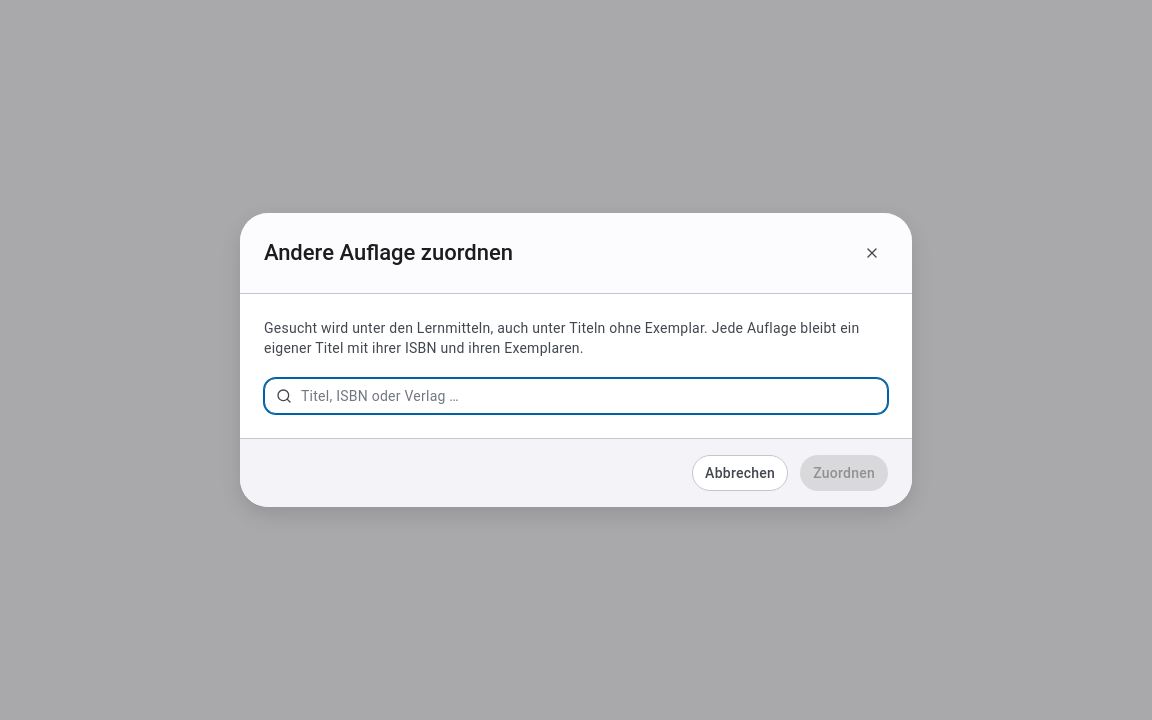
it: AuflageZuordnenDialog › meldet eine Abweisung des Servers im Dialog und reicht nichts weiter
Type "Mathe" into the search field named "Andere Auflage suchen" at coordinates (576, 396), box [264, 378, 888, 414]
Wait 250 ms
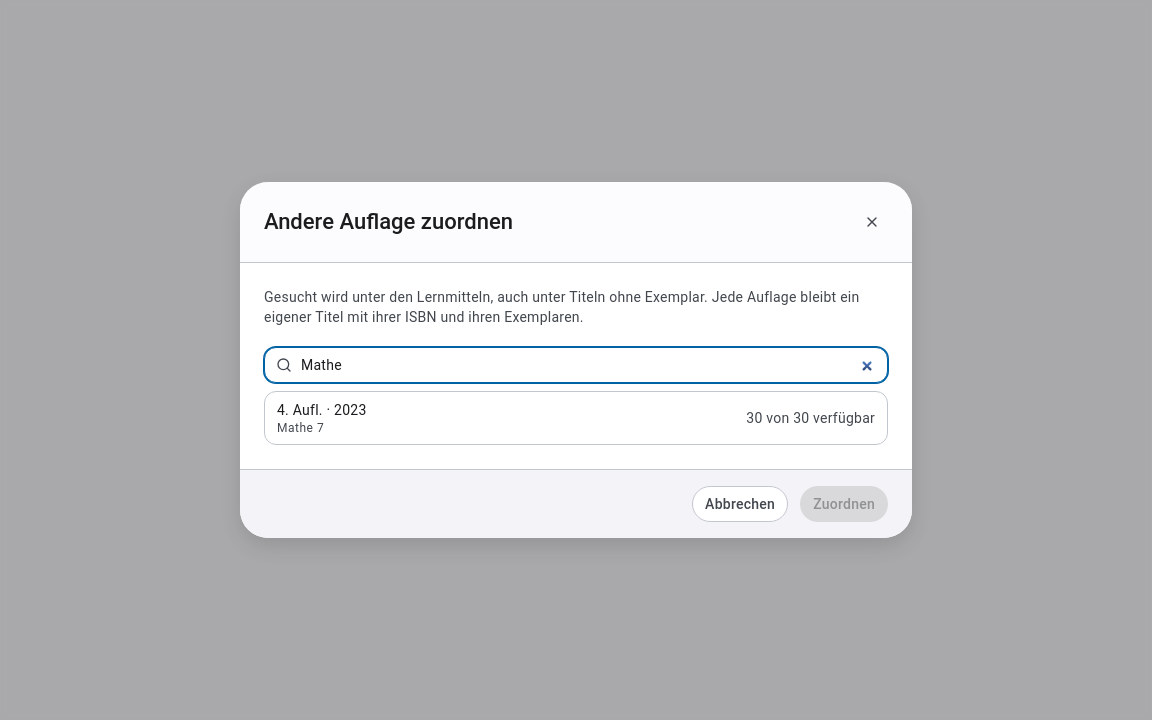
Click the button "4. Aufl. · 2023 Mathe 7 30 von 30 verfügbar" at coordinates (322, 410), box [265, 392, 887, 444]
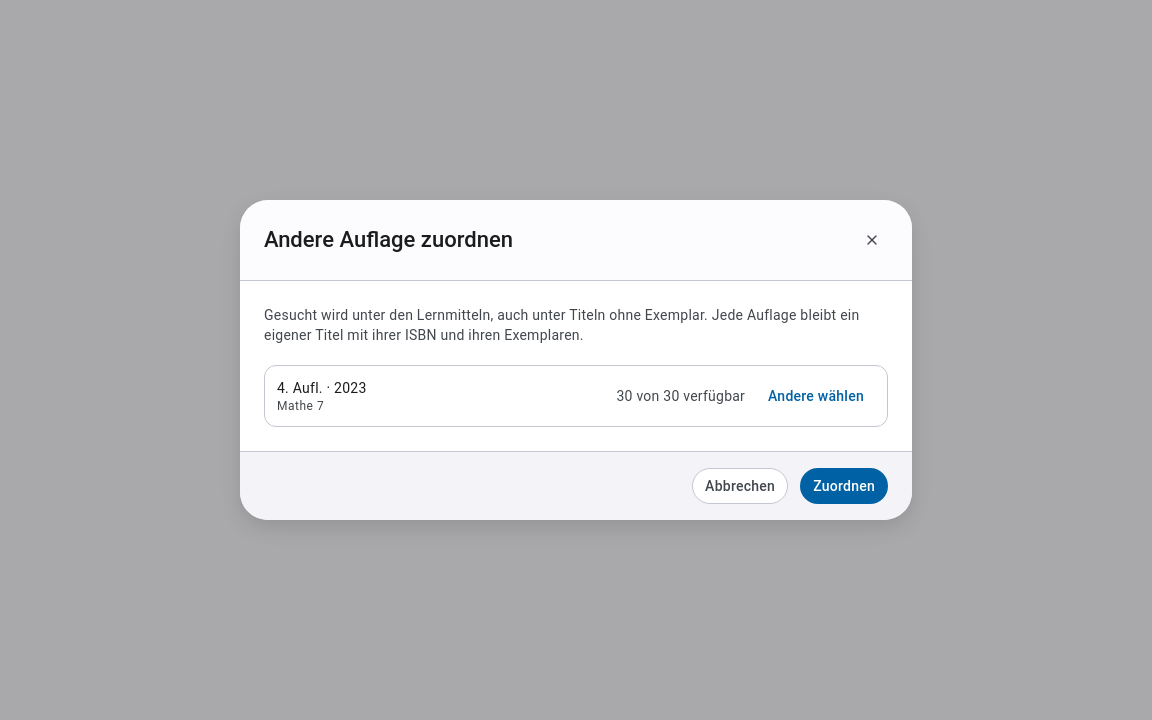
Click the button "Zuordnen" at coordinates (844, 486), box [800, 468, 888, 504]
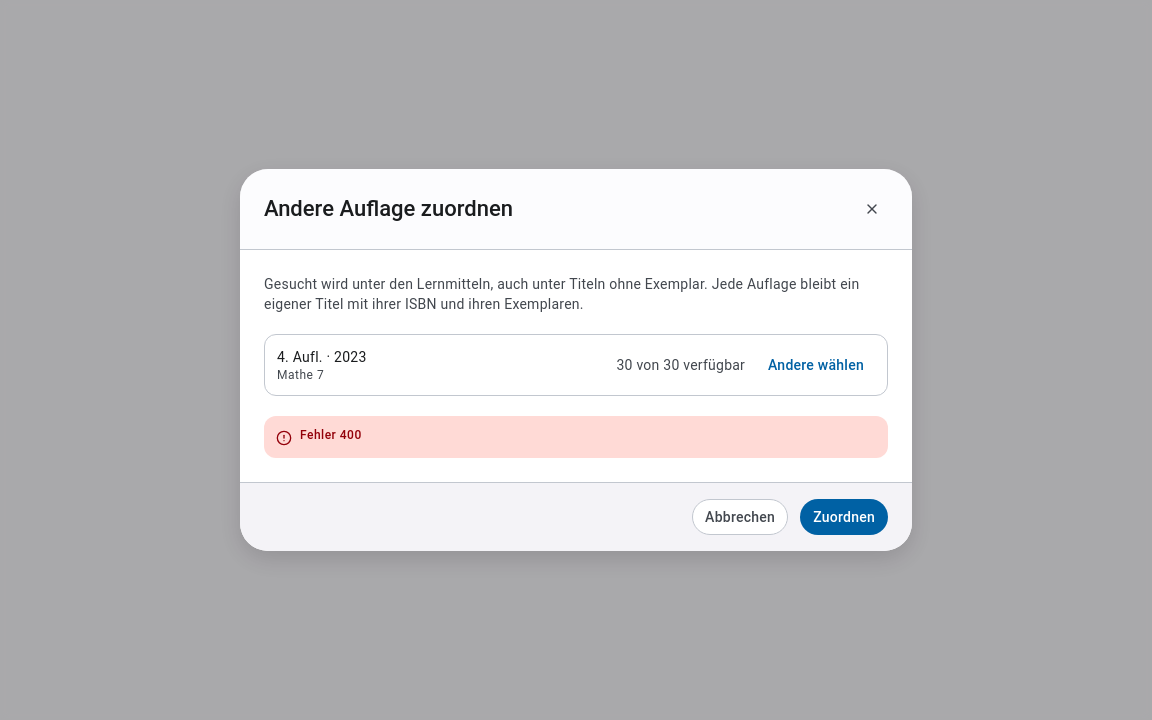
Result: the message reads "Fehler 400" at [300, 428, 362, 442]
